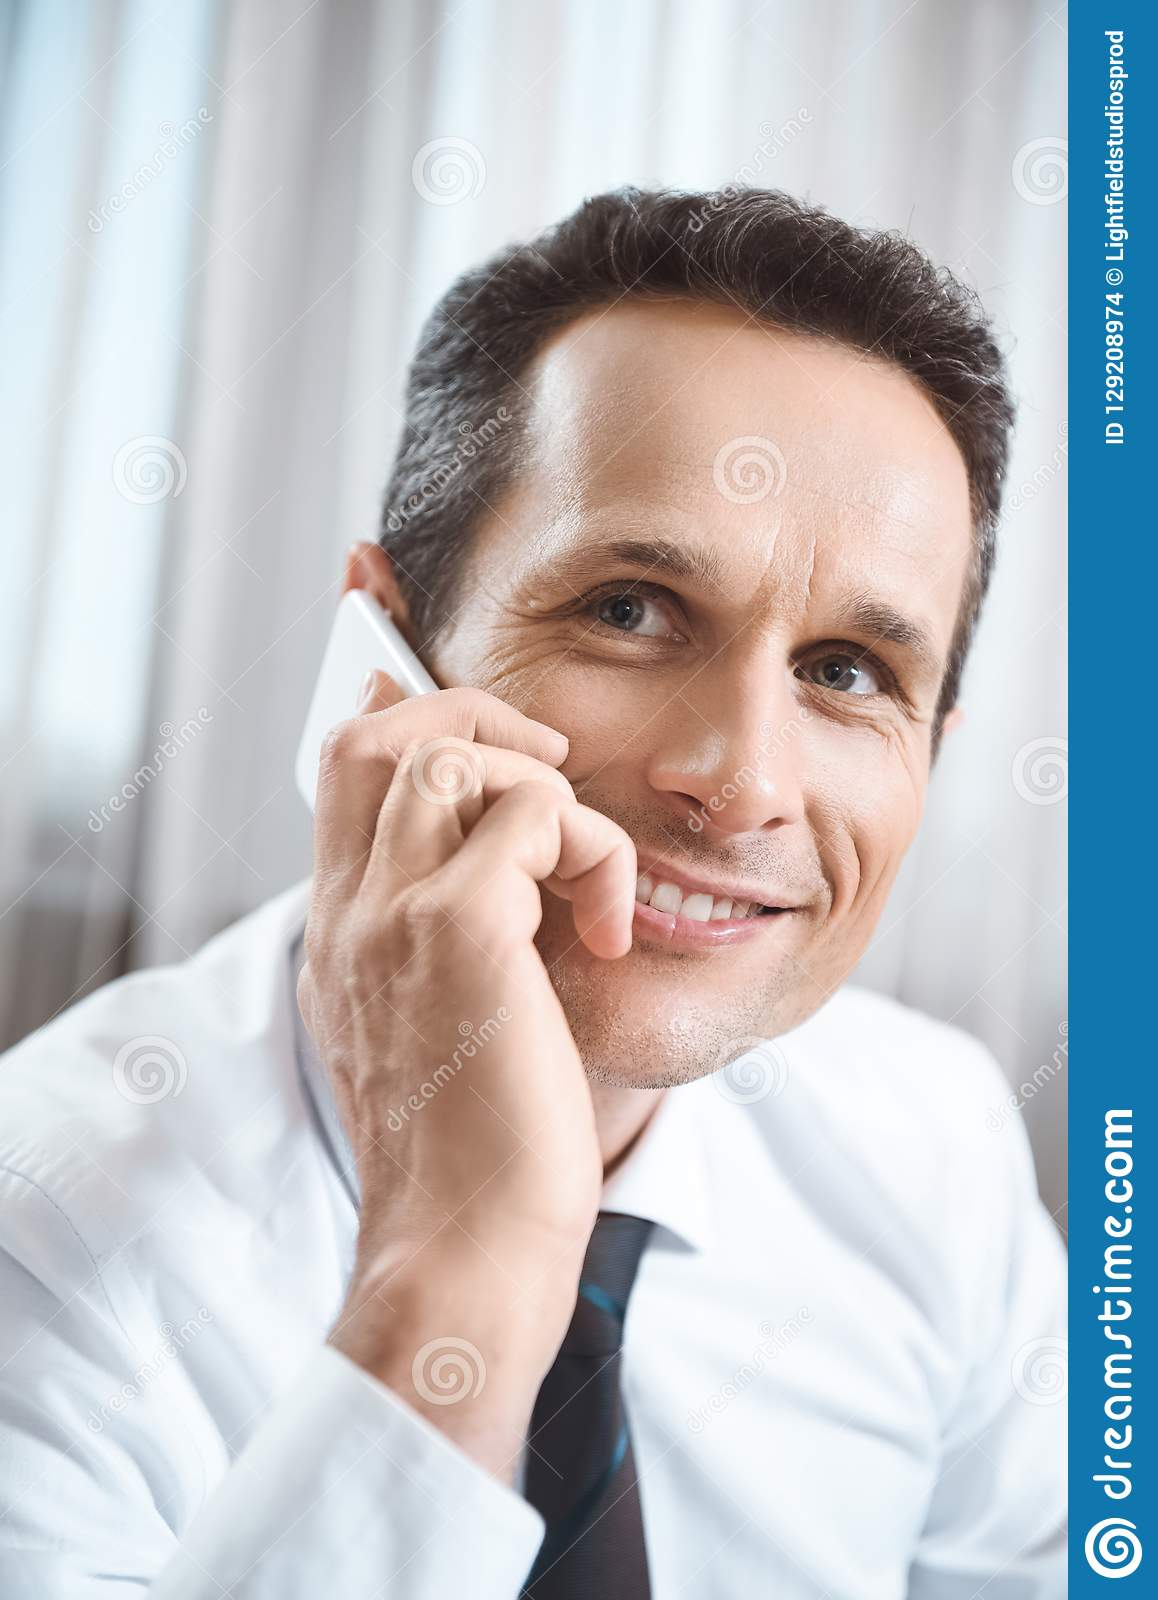phone: (304, 599, 504, 909)
talk: (293, 525, 946, 1340)
